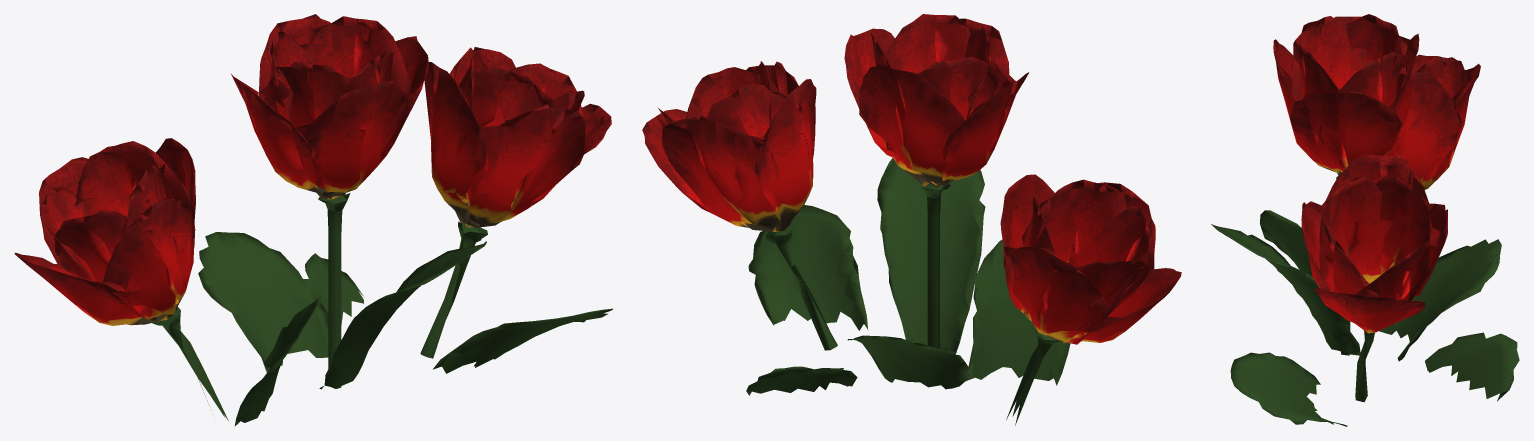
The picture shows the model from 3 angles, left to right: view 1: azimuth 30°, elevation 25°; view 2: azimuth 150°, elevation 25°; view 3: azimuth 270°, elevation 25°; orthographic projection. The views are drawn at different scales.
Visible parts, largest first — view 1: 36afaeaa; view 2: 36afaeaa; view 3: 36afaeaa.
Part boxes in pixels (left/top/right/bottom): 36afaeaa: left=14, top=14, right=613, bottom=426; 36afaeaa: left=642, top=14, right=1181, bottom=425; 36afaeaa: left=1211, top=14, right=1519, bottom=426.
Size of the model in its own units: 0.1819 by 0.1148 by 0.0945.
Materials: 3 (3 with a texture image).
